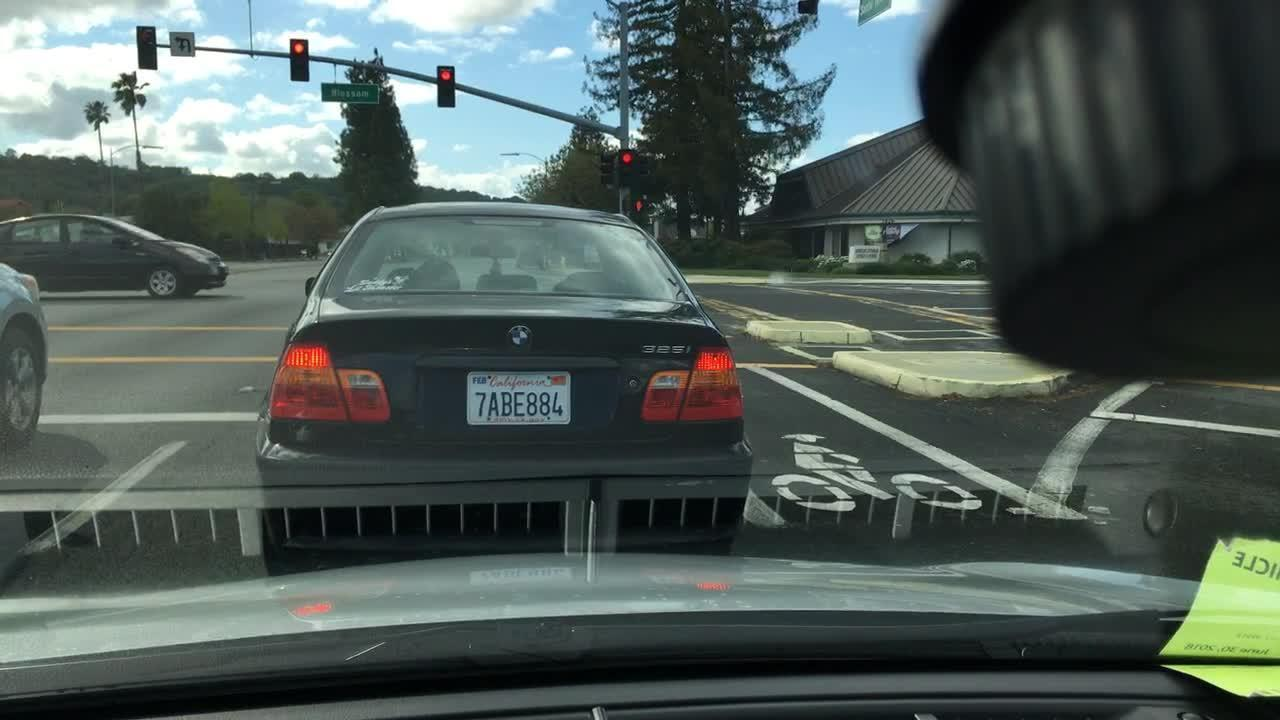bmw: (502, 323, 538, 355)
